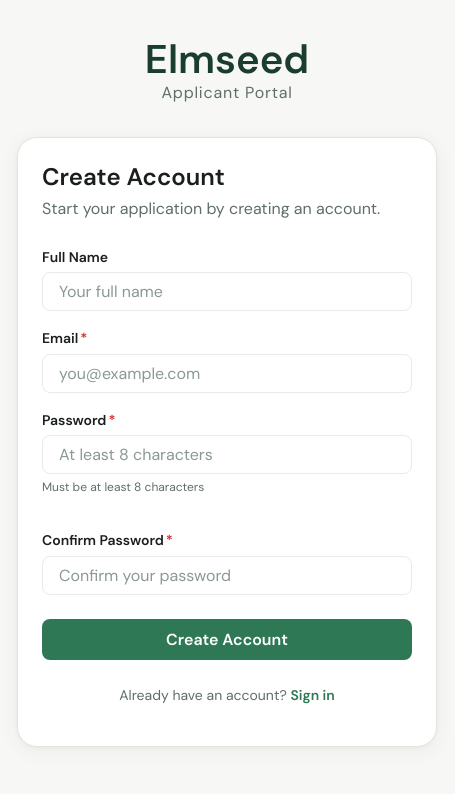
SignupPage › Password Validation › should show error when passwords do not match
In the field labelled "Full Name": [227, 292] box [42,272,412,311], type "Test User"
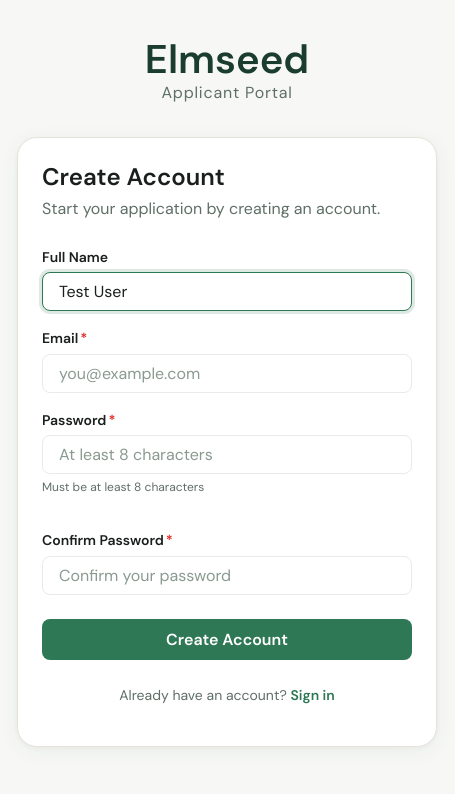
In the field labelled "Email*": [227, 373] box [42,354,412,393], type "test@example.com"
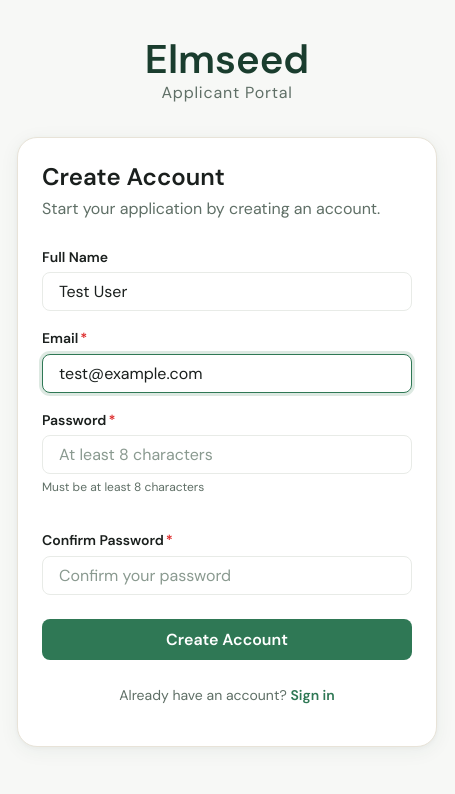
In the password field labelled "Password*": [227, 455] box [42,435,412,474], type "password123"
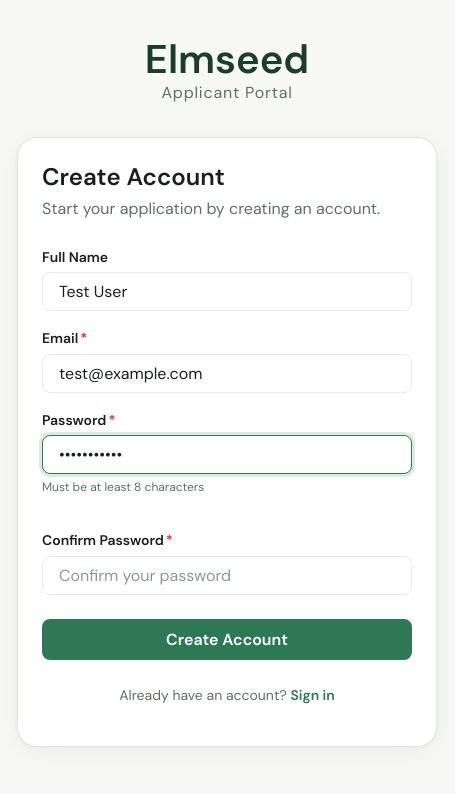
In the password field labelled "Confirm Password*": [227, 575] box [42,556,412,595], type "differentpassword"
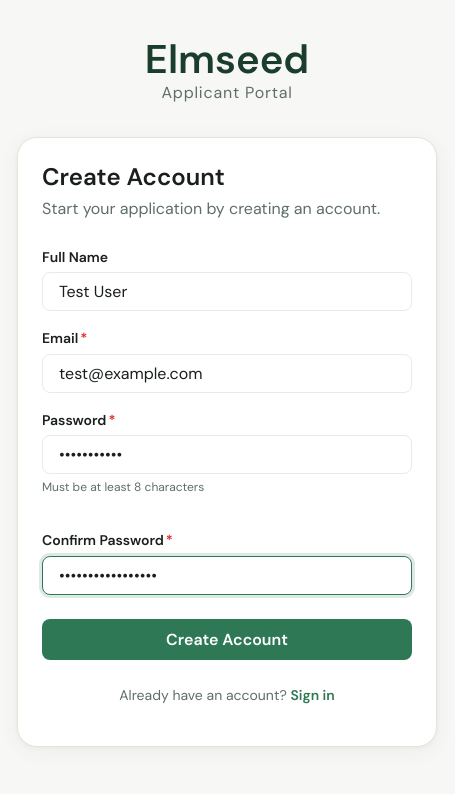
Click the button "Create Account": [227, 639] box [42,619,412,660]
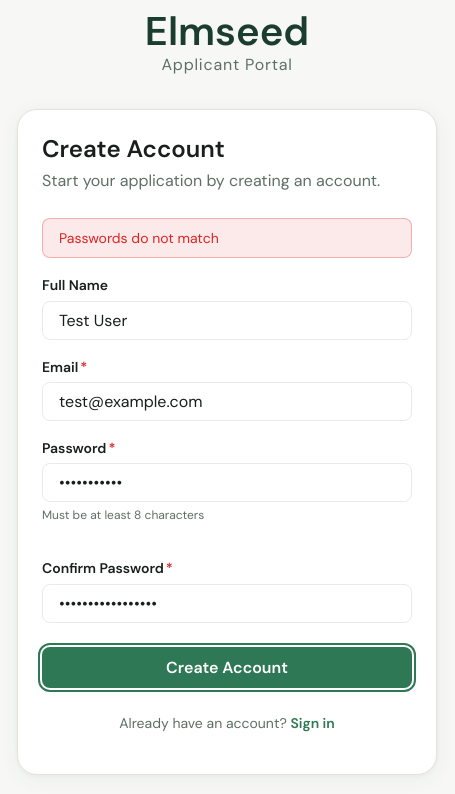
expect the message reads "Passwords do not match": met, box [59,229,219,247]
